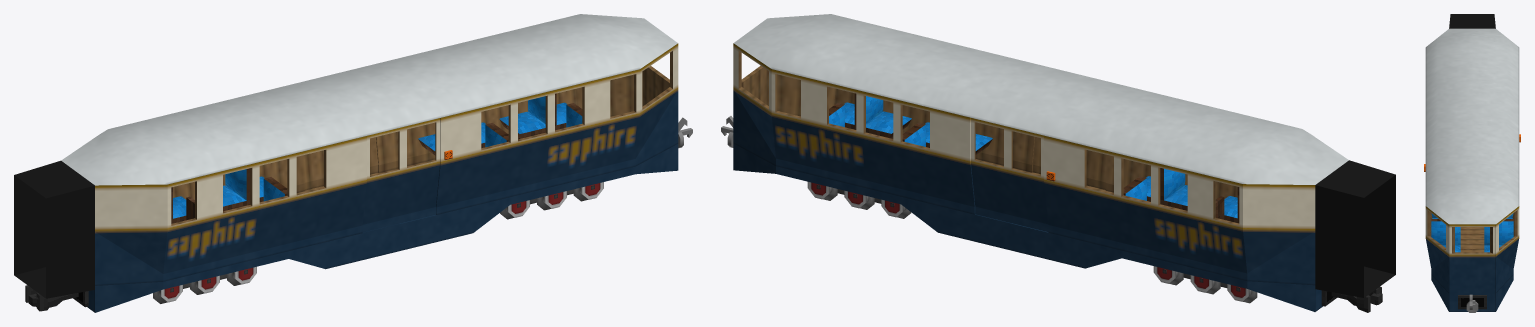
Rendered from sapphire_express_coach_obs.obj.
3 views of the same model, side by side, from view 1: azimuth 30°, elevation 25°; view 2: azimuth 150°, elevation 25°; view 3: azimuth 270°, elevation 25° (orthographic). The views are drawn at different scales.
Visible parts, largest first — view 1: FRAME_ext_roof, FRAME_ext_body.002, FRAME_ext_body.001, connector.001, FRAME_int_body.001, DOOR_6_CG_doorleft_NOTOUCH, DOOR_5_CG_doorleft_NOTOUCH, FRAME_int_body.002, bench.008, bench.007, DOOR_3_NOTOUCH_EXTERNAL, COUPLED_FRONT_2_HIDE_INVERT; view 2: FRAME_ext_roof, FRAME_ext_body.002, FRAME_ext_body.001, connector.001, FRAME_int_body.001, DOOR_4_CG_doorright_NOTOUCH, DOOR_3_CG_doorright_NOTOUCH, FRAME_int_body.002, bench.001, bench.006, DOOR_5_NOTOUCH_EXTERNAL, COUPLED_FRONT_2_HIDE_INVERT; view 3: FRAME_ext_roof, FRAME_ext_body.001, connector.001, FRAME_int_floor, FRAME_int_body.001, bench.001, bench.008, COUPLER_ENGAGED_REAR_2_TOGGLE_LABEL_Uncouple, COUPLED_REAR_4_HIDE_INVERT.
Part boxes in pixels (x1,y1,x2,y2): FRAME_ext_roof: (61,14,677,185); FRAME_ext_body.002: (87,136,399,312); FRAME_ext_body.001: (399,43,678,250); connector.001: (14,160,94,298); FRAME_int_body.001: (376,51,672,172); DOOR_6_CG_doorleft_NOTOUCH: (399,118,439,223); DOOR_5_CG_doorleft_NOTOUCH: (362,127,403,232); FRAME_int_body.002: (171,150,326,225); bench.008: (499,93,567,138); bench.007: (223,168,264,211); DOOR_3_NOTOUCH_EXTERNAL: (302,150,323,190); COUPLED_FRONT_2_HIDE_INVERT: (25,285,78,311); FRAME_ext_roof: (734,14,1348,184); FRAME_ext_body.002: (1011,135,1322,311); FRAME_ext_body.001: (733,43,1011,250); connector.001: (1315,160,1395,297); FRAME_int_body.001: (738,51,1034,172); DOOR_4_CG_doorright_NOTOUCH: (971,118,1011,222); DOOR_3_CG_doorright_NOTOUCH: (1008,127,1048,231); FRAME_int_body.002: (1084,149,1239,225); bench.001: (844,93,911,138); bench.006: (1146,168,1187,210); DOOR_5_NOTOUCH_EXTERNAL: (1086,150,1107,189); COUPLED_FRONT_2_HIDE_INVERT: (1331,286,1382,312); FRAME_ext_roof: (1425,28,1519,224); FRAME_ext_body.001: (1425,206,1519,311); connector.001: (1449,14,1495,28); FRAME_int_floor: (1460,227,1484,252); FRAME_int_body.001: (1427,210,1517,253); bench.001: (1431,219,1460,252); bench.008: (1484,219,1513,252); COUPLER_ENGAGED_REAR_2_TOGGLE_LABEL_Uncouple: (1458,295,1486,309); COUPLED_REAR_4_HIDE_INVERT: (1466,300,1478,312).
Bounding box in the file's own units: 11.19 × 2.56 × 2.06.
8 materials, 8 textured.
